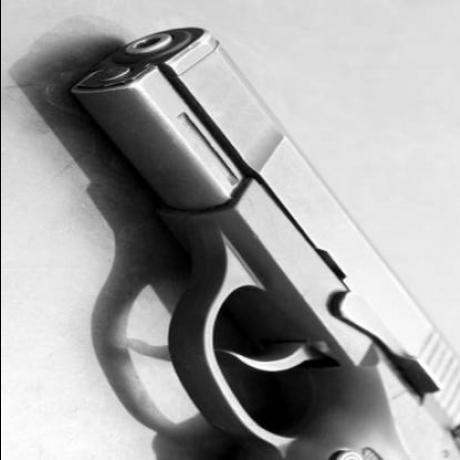weapon: (52, 37, 460, 460)
